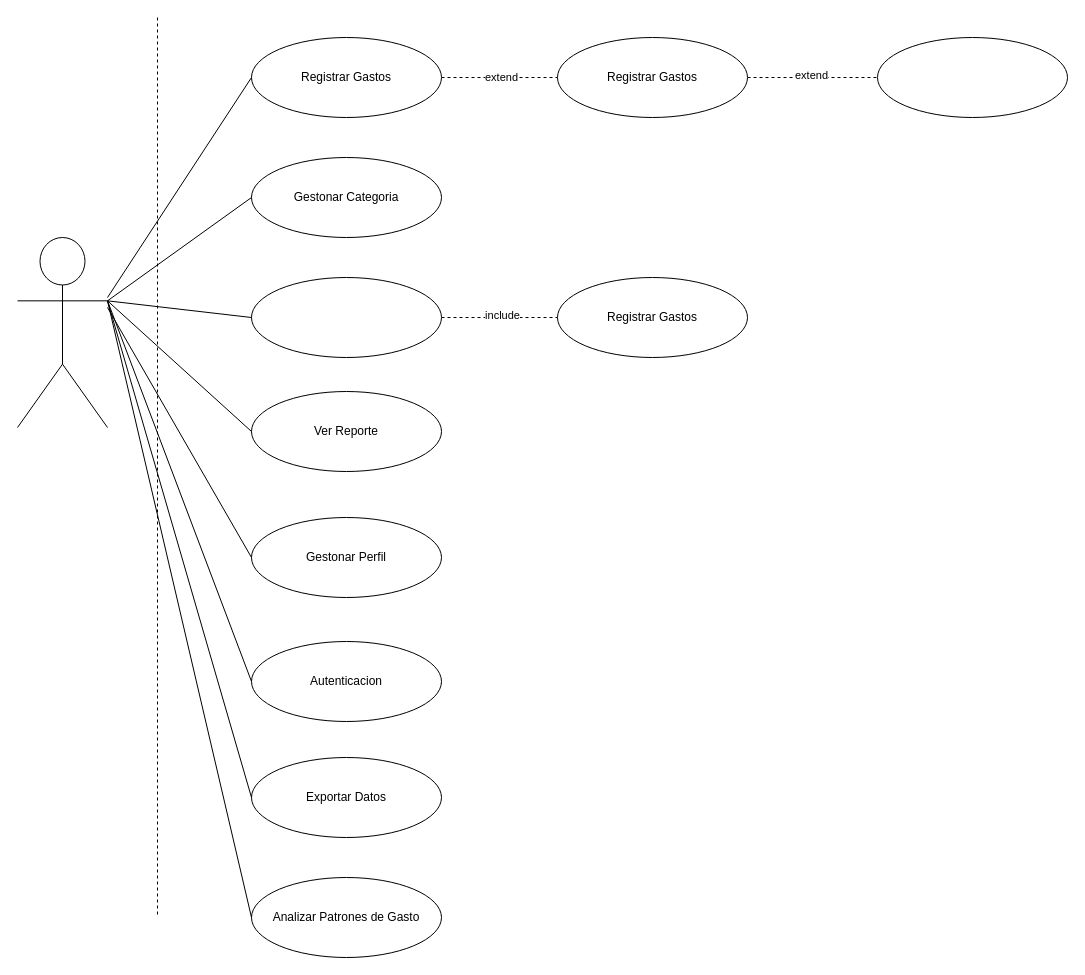
Image size: 1085x975. Some labels were removed from this diagram. Each missing label, with the centre of its shape:
Actor: the point at 62,332
Crear Presupuesto: the point at 346,317
Eliminar Gatos: the point at 972,77
